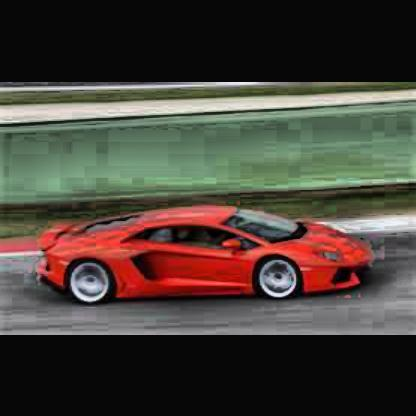Lamborghini Aventador Coupe 2012: (25, 202, 382, 310)
